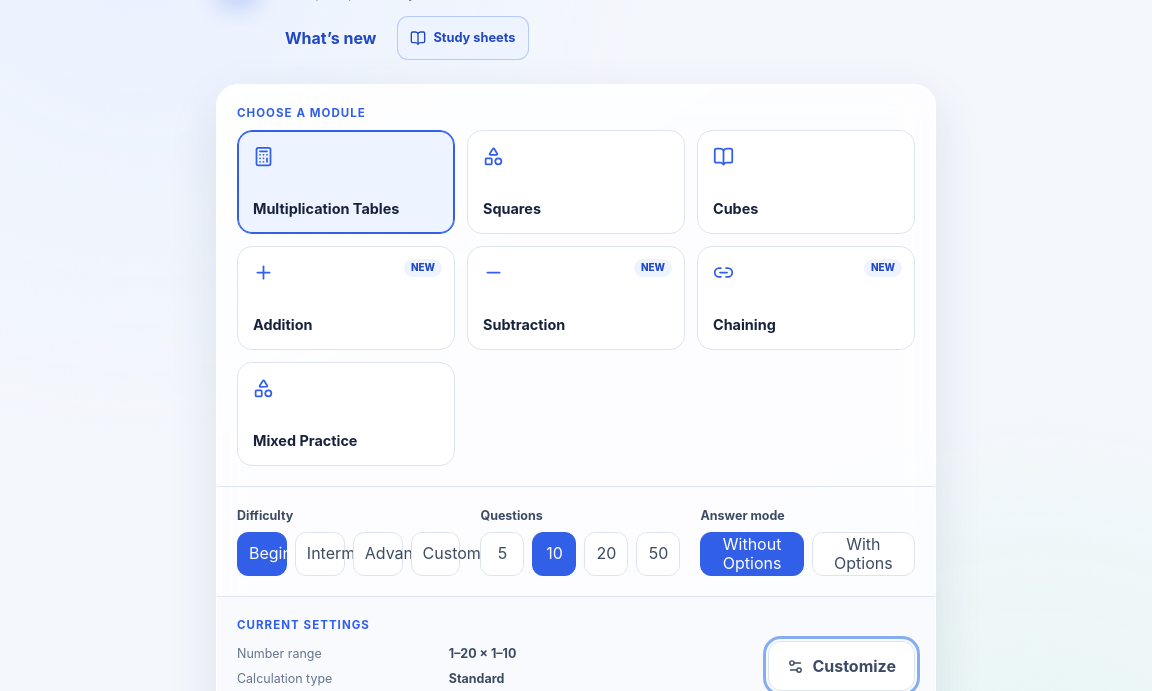
it: customization dialog › discards cancelled drafts and restores focus
(page scrolled)
Click the button "Customize" at {"x": 842, "y": 666}, box [768,642,915,690]
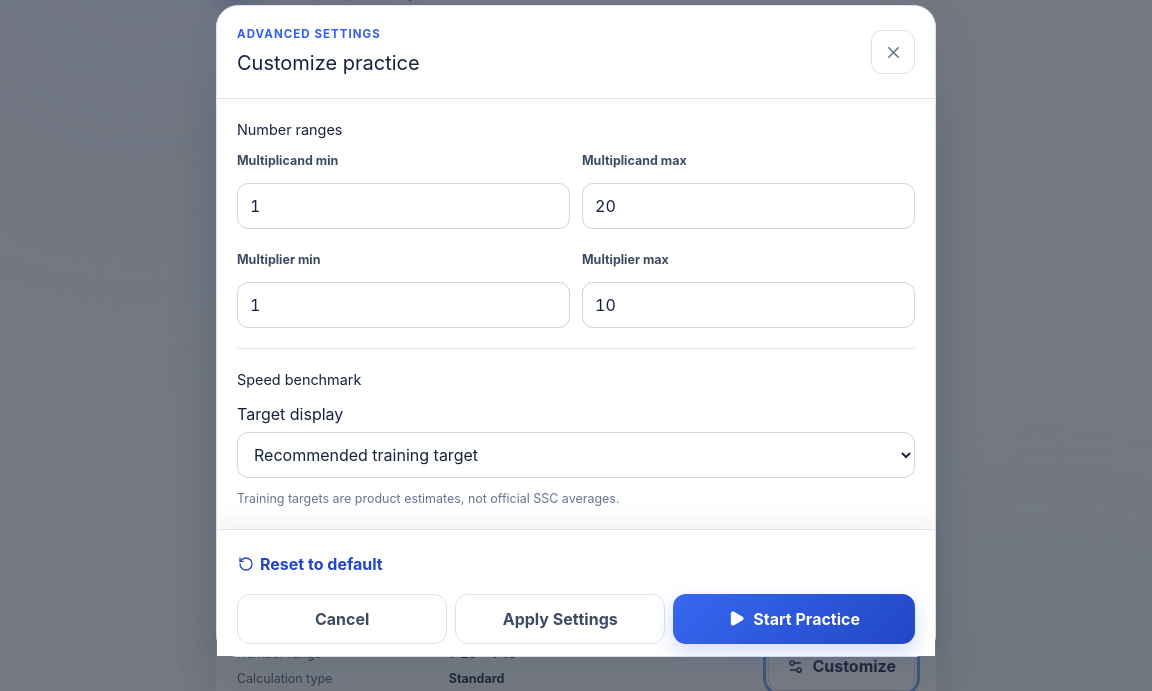
Replace the text in the field labelled "Multiplicand min" with "7" at {"x": 404, "y": 206}, box [237,183,570,229]
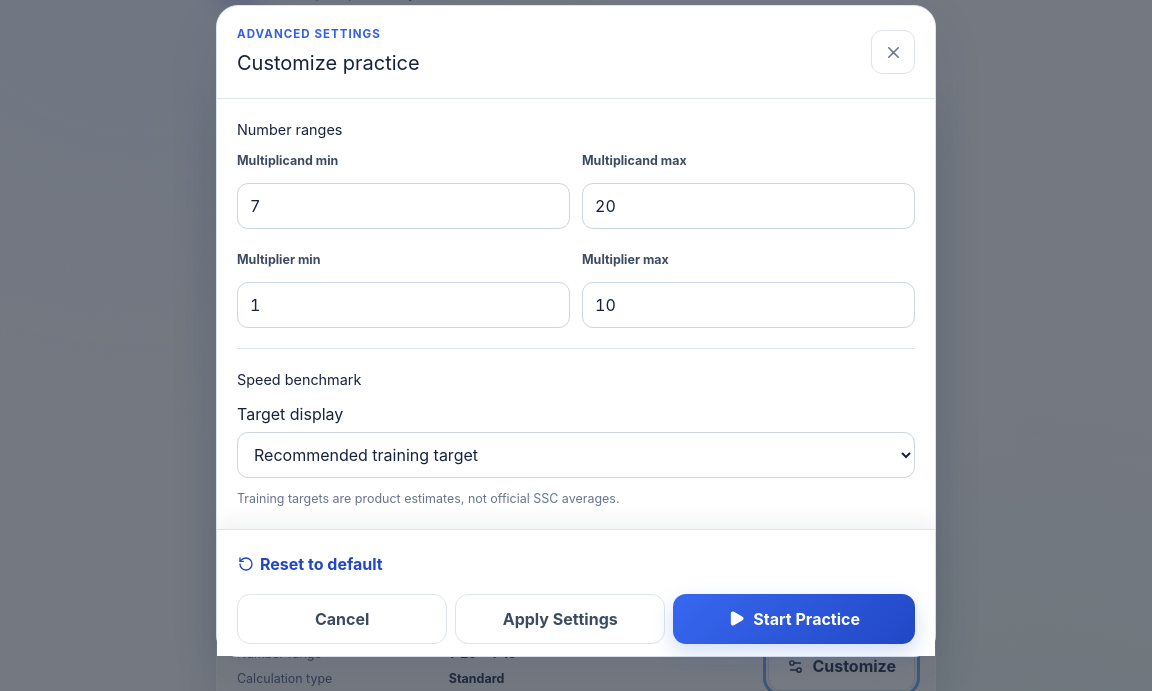
Click the button "Cancel" at {"x": 342, "y": 618}, box [237,594,447,644]
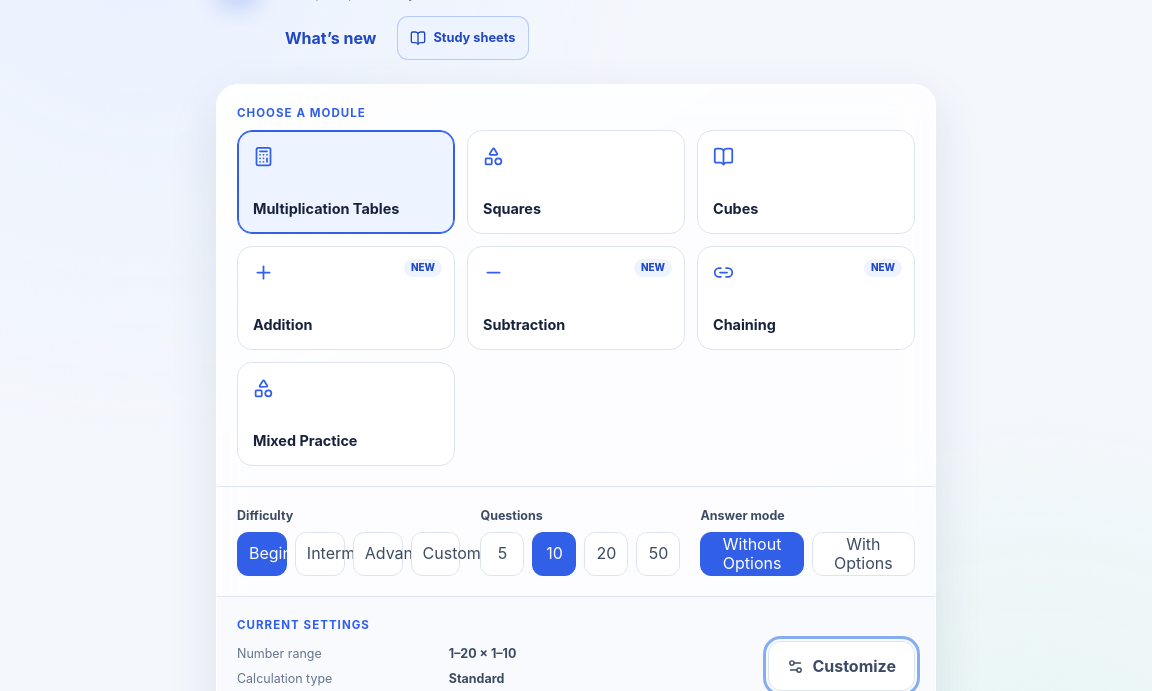
Check: the heading "Customize practice" is gone
Click the button "Customize" at {"x": 842, "y": 666}, box [768,642,915,690]
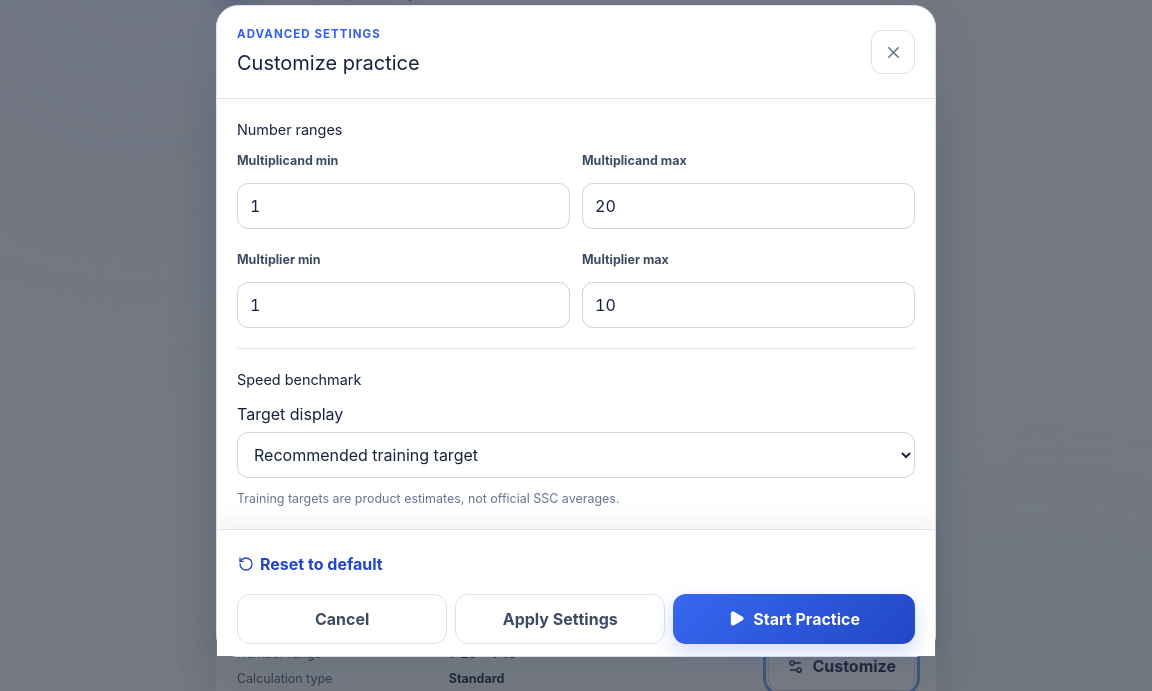
Check: the field labelled "Multiplicand min" holds "1", box [237,183,570,229]
Press Escape
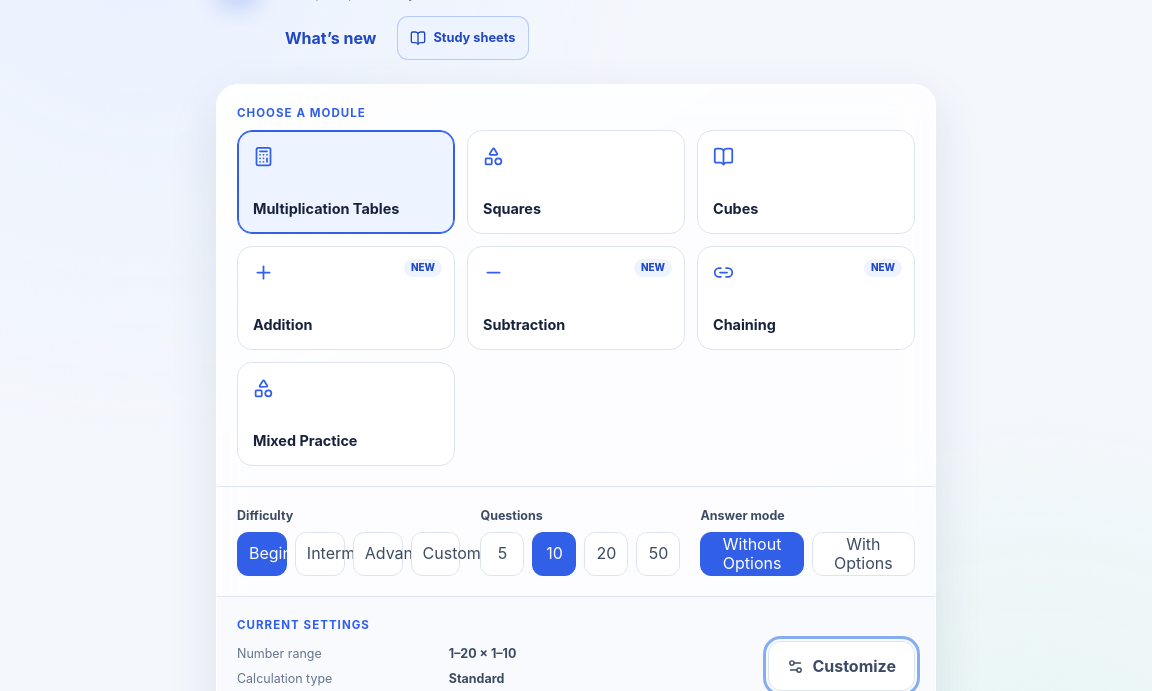
Check: the dialog is gone
